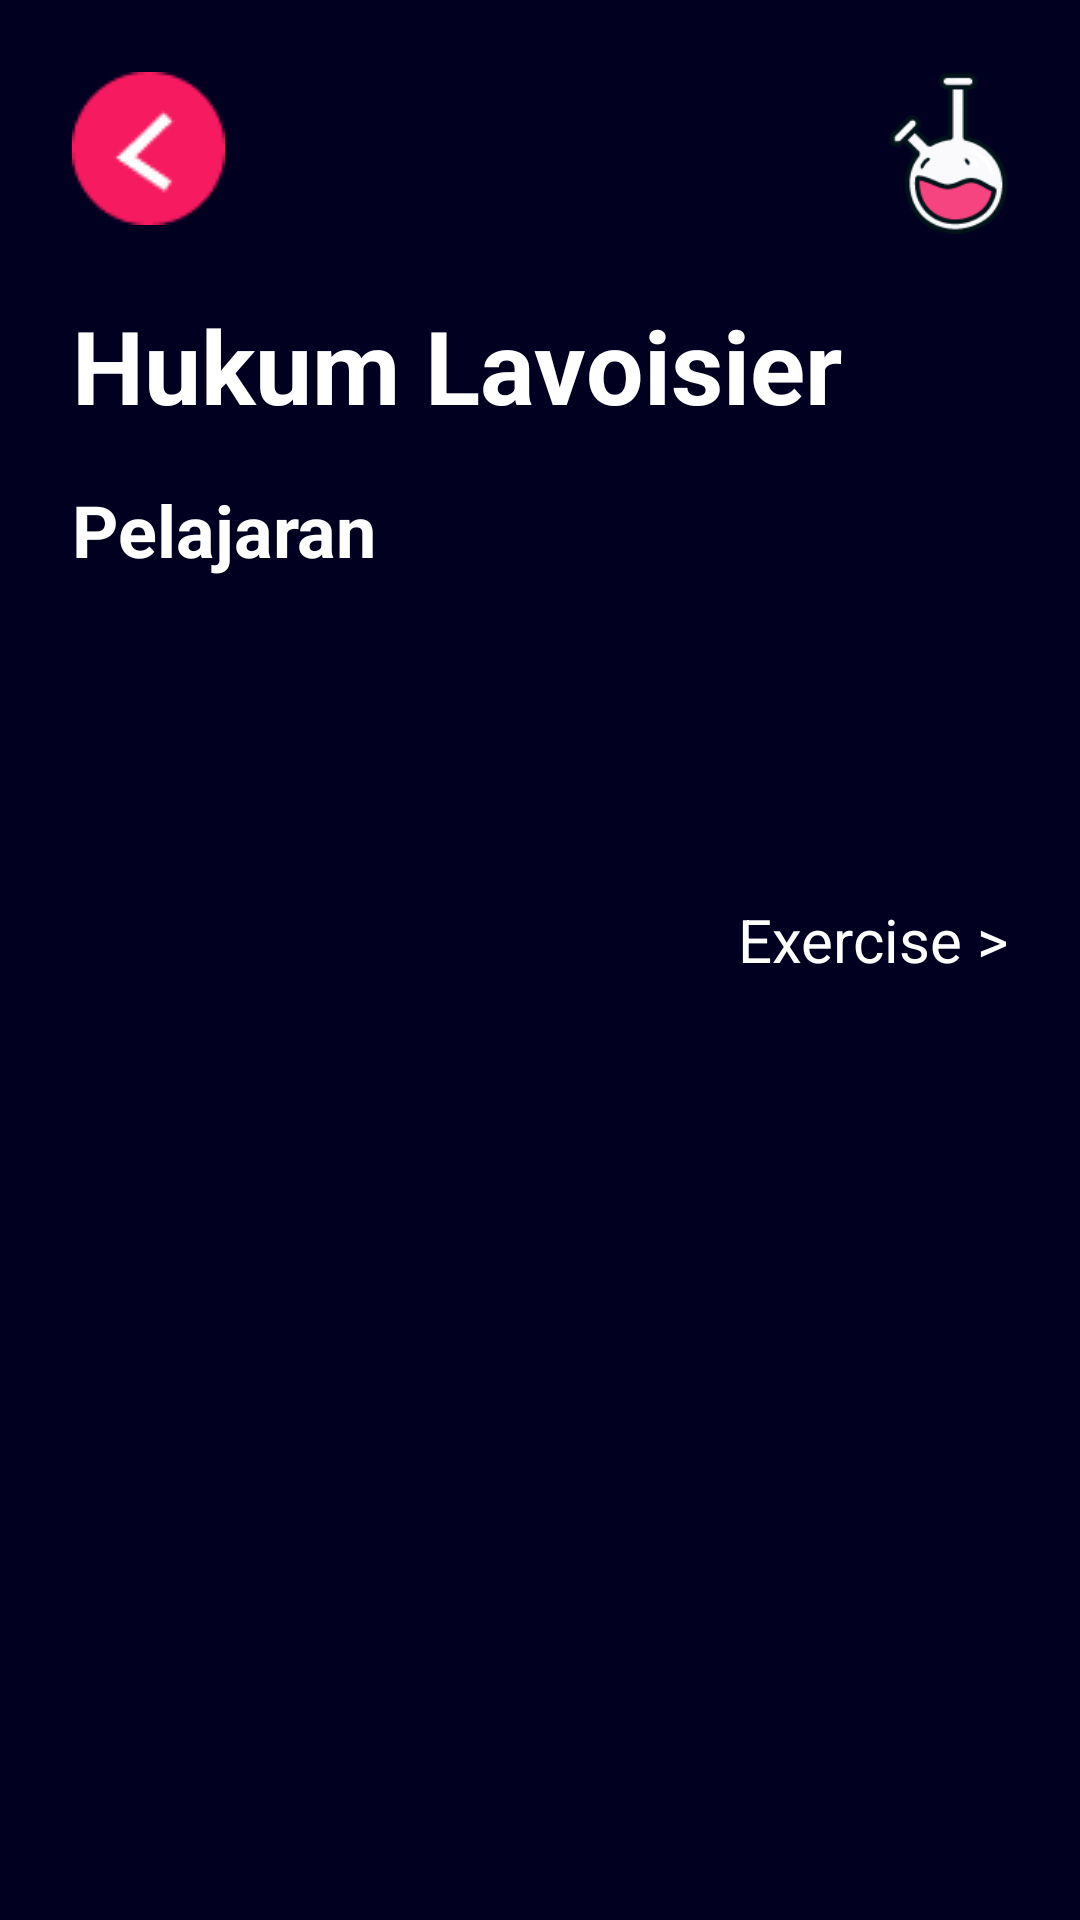

Where to tap for icons on this 1080×1920 app screen, as (x,y):
back: (148,148)
